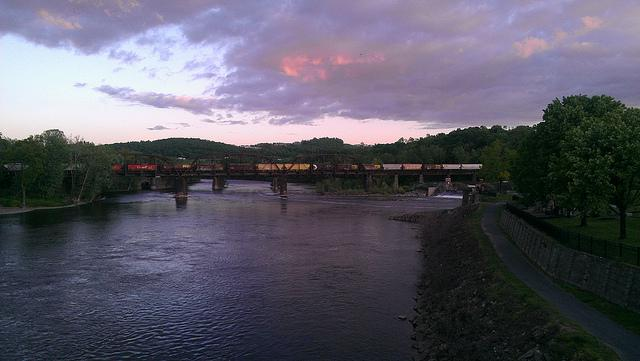Train: (112, 164, 483, 169)
